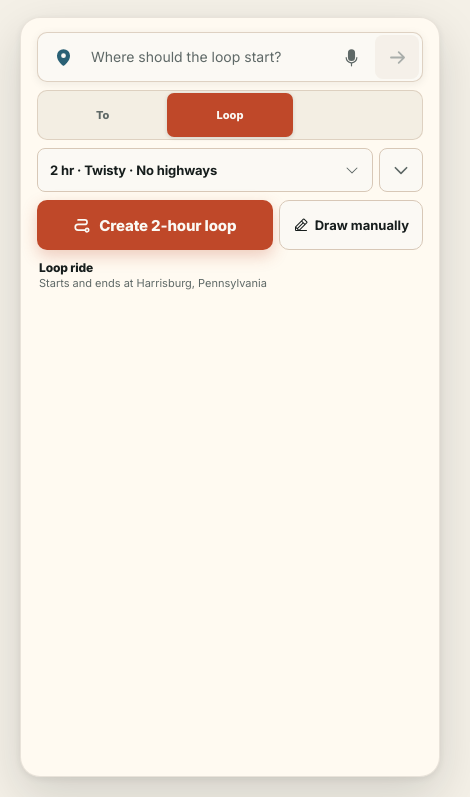
V2 progressive Ride options › groups customization by rider goal while preserving every shaping control
Step 1. Click the button with aria-label "Ride options" → point(205, 170), box x1=37 y1=148 x2=373 y2=192
(page scrolled)
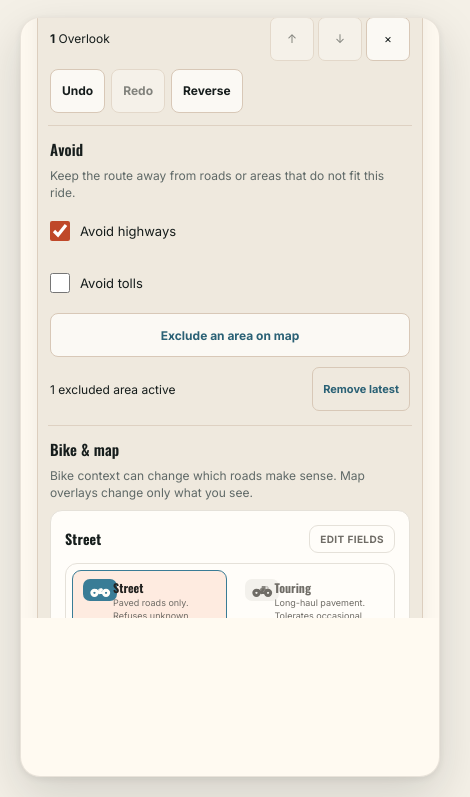
Now the element "Avoid" is shown, box x1=48 y1=126 x2=412 y2=426
Now the checkbox labelled "Avoid highways" is checked
Now the button "Exclude an area on map" is shown, box x1=50 y1=313 x2=410 y2=357
Step 2. Click the checkbox labelled "Avoid highways" → point(60, 231), box x1=50 y1=221 x2=70 y2=241
(page scrolled)
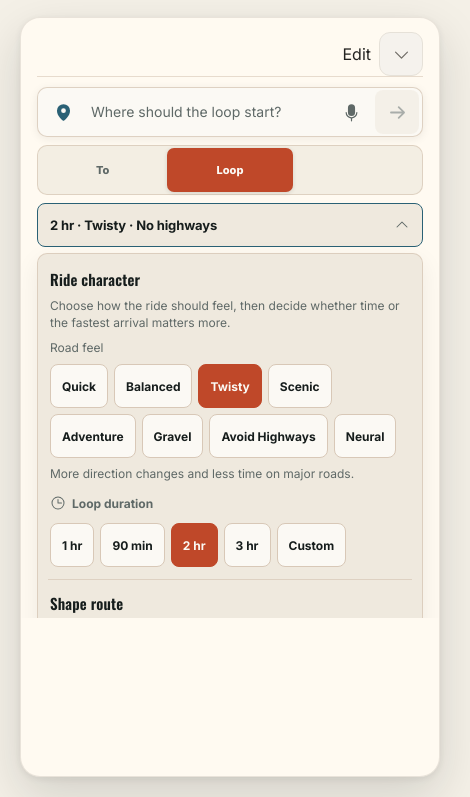
Step 3. Click the button "To" → point(103, 170), box x1=40 y1=148 x2=165 y2=192
(page scrolled)
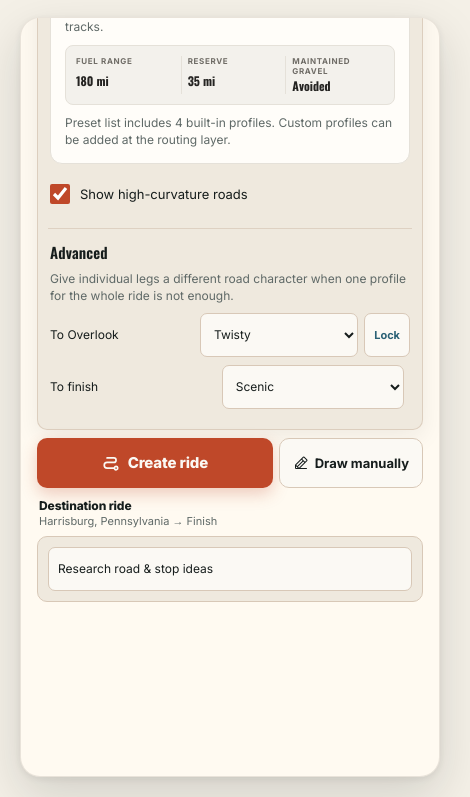
Now the element "Advanced" is shown, box x1=48 y1=229 x2=412 y2=420
